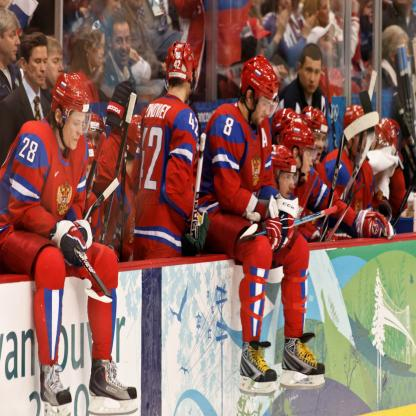Helmet: (50, 73, 92, 156), (240, 56, 282, 132), (163, 41, 204, 101), (294, 102, 328, 166), (280, 115, 313, 179), (341, 102, 372, 166), (268, 142, 296, 201), (120, 111, 143, 159), (376, 111, 400, 154), (274, 108, 295, 146)
